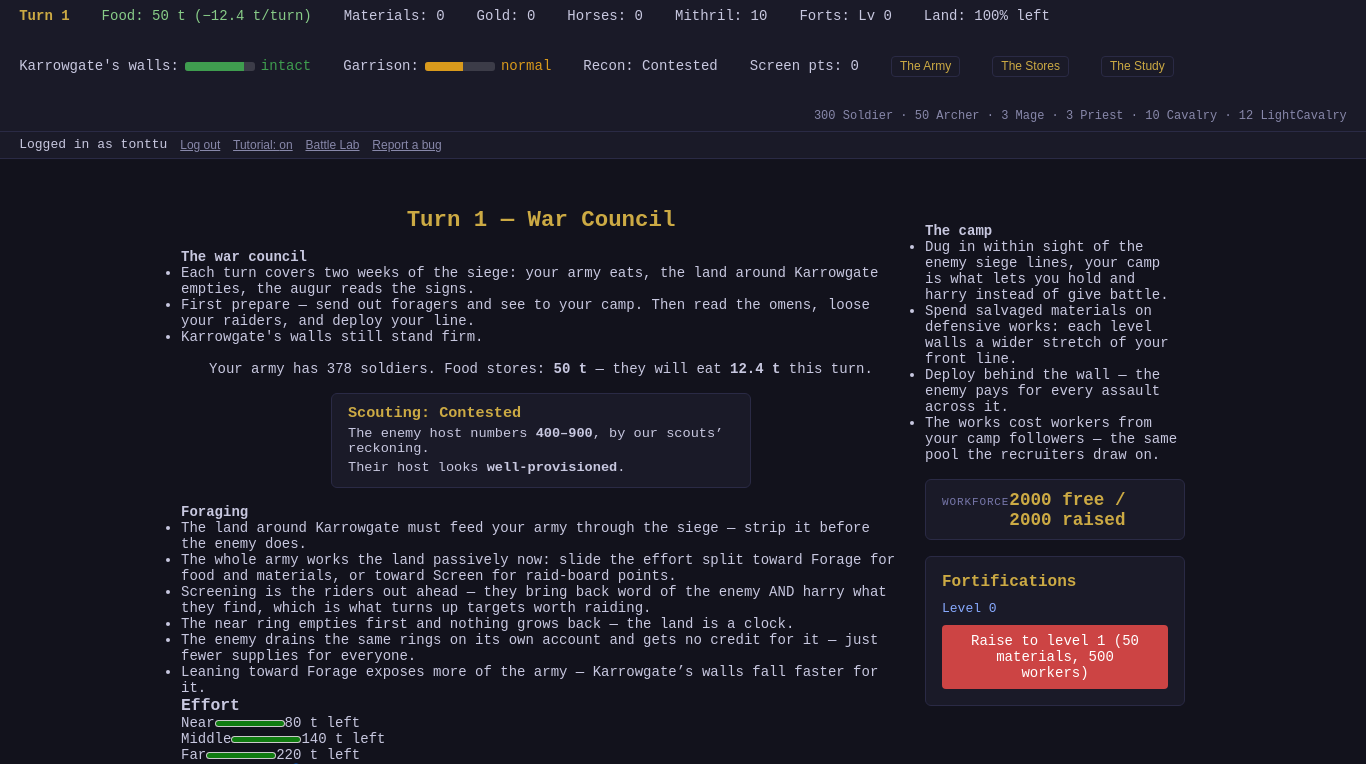
Test: App auth state › logout clears the stored session and the token
This screenshot has width=1366, height=764.
Expected: the heading "Turn 1 — War Council" is shown, [407,207,675,233]
Click the button with test id "logout-button" at (200, 145), box [180,138,220,152]
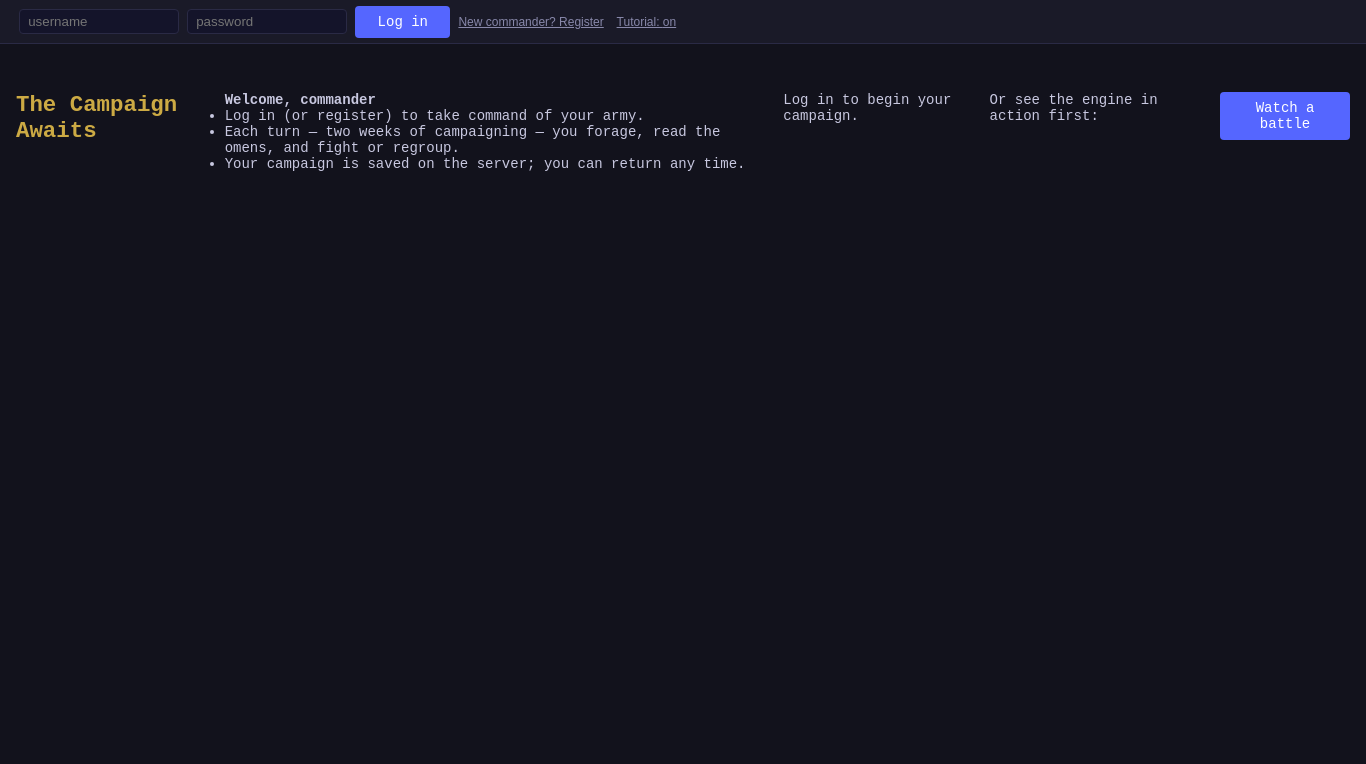
Expected: the text with test id "auth-username" is gone
Expected: the button with test id "login-submit" is shown, [355,6,450,38]
Expected: the heading "The Campaign Awaits" is shown, [16,92,201,144]
